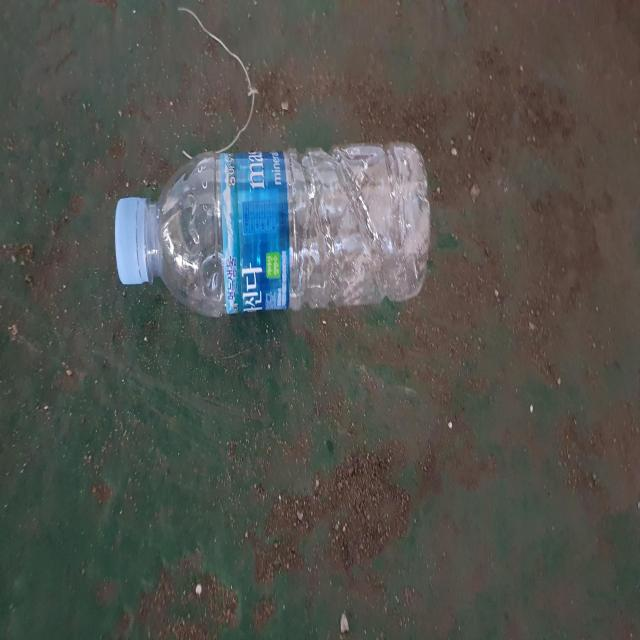plastic_bottle: (114, 144, 430, 317)
